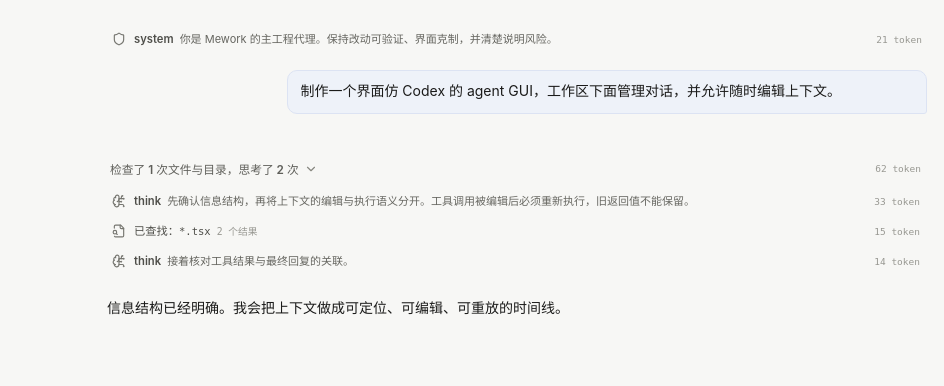
ContextStream › names the tool from the menu rather than from a picker inside the editor
Right-click the element with class "context-stream": (517, 185) [107,0,927,369]
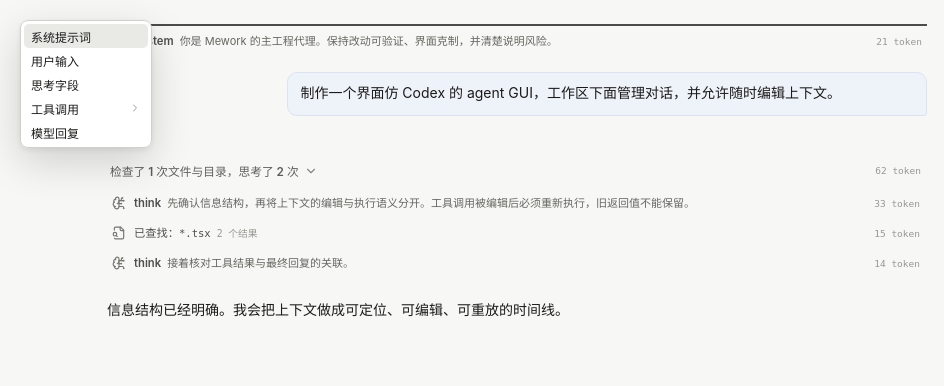
Click the menu item "工具调用": (86, 108) [24,96,148,120]
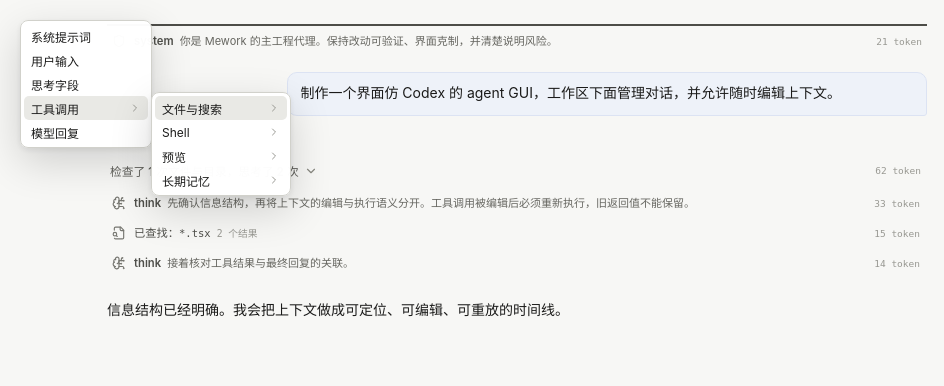
Expected: the menu item "写入文件" is not shown
Click the menu item "文件与搜索": (221, 108) [155,96,287,120]
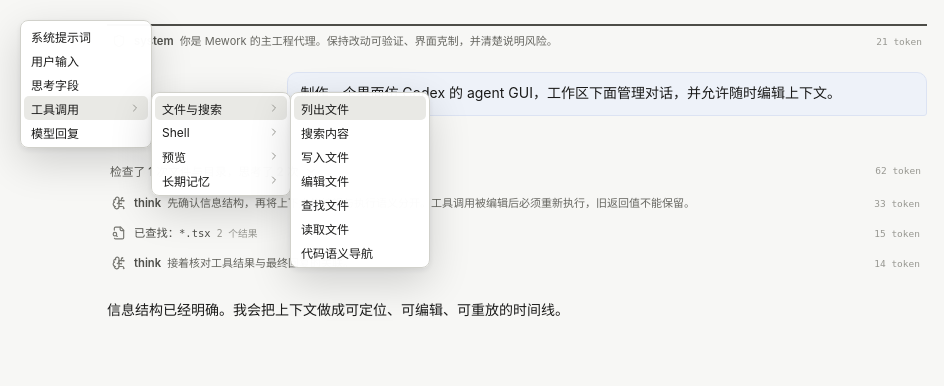
Click the menu item "写入文件": (360, 156) [294,144,426,168]
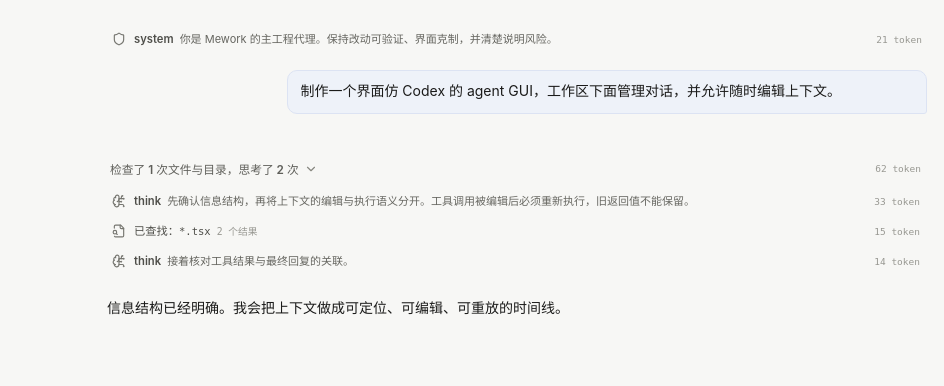
Result: the menu is gone
